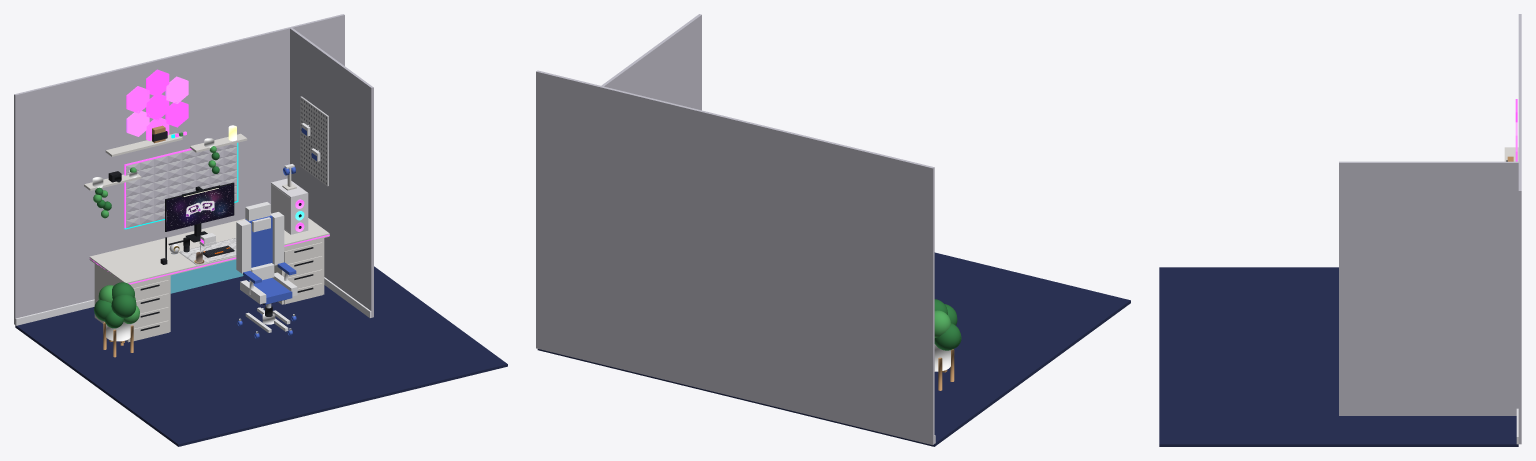
The model's file is workstation-sample.glb.
3 views of the same model, side by side, from view 1: azimuth 30°, elevation 25°; view 2: azimuth 150°, elevation 25°; view 3: azimuth 270°, elevation 25° (orthographic). The views are drawn at different scales.
Visible parts, largest first — view 1: room_floor, room_rear_wall, room_right_wall, acoustic_foam_tiles, desk_top, monitor_screen_mesh, pegboard_mesh, pc_chassis, desk_modesty_panel, desk_left_pedestal, chair_back_spine, chair_back_wing_left (+13 smaller); view 2: room_rear_wall, room_floor, room_right_wall; view 3: room_right_wall, room_floor, room_rear_wall.
Part boxes in pixels (x1=…): room_floor: x1=15, y1=266, x2=507, y2=446; room_rear_wall: x1=14, y1=14, x2=344, y2=324; room_right_wall: x1=290, y1=28, x2=373, y2=317; acoustic_foam_tiles: x1=126, y1=143, x2=237, y2=228; desk_top: x1=89, y1=212, x2=329, y2=284; monitor_screen_mesh: x1=166, y1=183, x2=233, y2=231; pegboard_mesh: x1=300, y1=96, x2=328, y2=186; pc_chassis: x1=271, y1=178, x2=308, y2=234; desk_modesty_panel: x1=170, y1=259, x2=243, y2=293; desk_left_pedestal: x1=94, y1=264, x2=170, y2=342; chair_back_spine: x1=245, y1=215, x2=272, y2=280; chair_back_wing_left: x1=236, y1=220, x2=251, y2=273; room_rear_wall: x1=536, y1=70, x2=934, y2=444; room_floor: x1=537, y1=252, x2=1130, y2=446; room_right_wall: x1=601, y1=14, x2=701, y2=110; room_right_wall: x1=1339, y1=161, x2=1518, y2=415; room_floor: x1=1159, y1=267, x2=1518, y2=446; room_rear_wall: x1=1518, y1=14, x2=1521, y2=444.
Bounding box in the file's own units: 4.2 × 2.83 × 3.63.
Materials: 40 (5 with a texture image).
